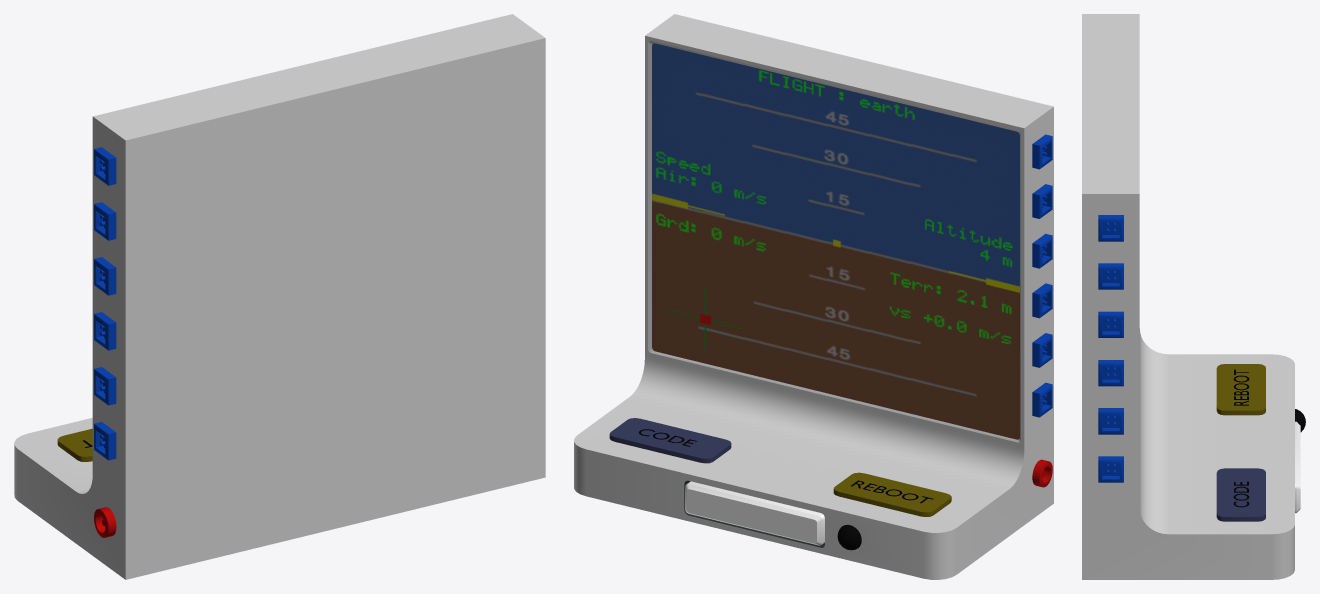
File: Computer.gltf
The picture shows the model from 3 angles, left to right: view 1: azimuth 30°, elevation 25°; view 2: azimuth 150°, elevation 25°; view 3: azimuth 270°, elevation 25°; orthographic projection. The views are drawn at different scales.
Parts seen in each view (by area): view 1: console; view 2: console, hdd; view 3: console, hdd.
Boxes of the visible parts, x1=… form: console: x1=14, y1=14, x2=545, y2=579; console: x1=574, y1=14, x2=1053, y2=579; hdd: x1=685, y1=481, x2=824, y2=545; console: x1=1082, y1=14, x2=1305, y2=579; hdd: x1=1295, y1=421, x2=1300, y2=513.
Size of the model in its own units: 1.04 by 1 by 0.5257.
